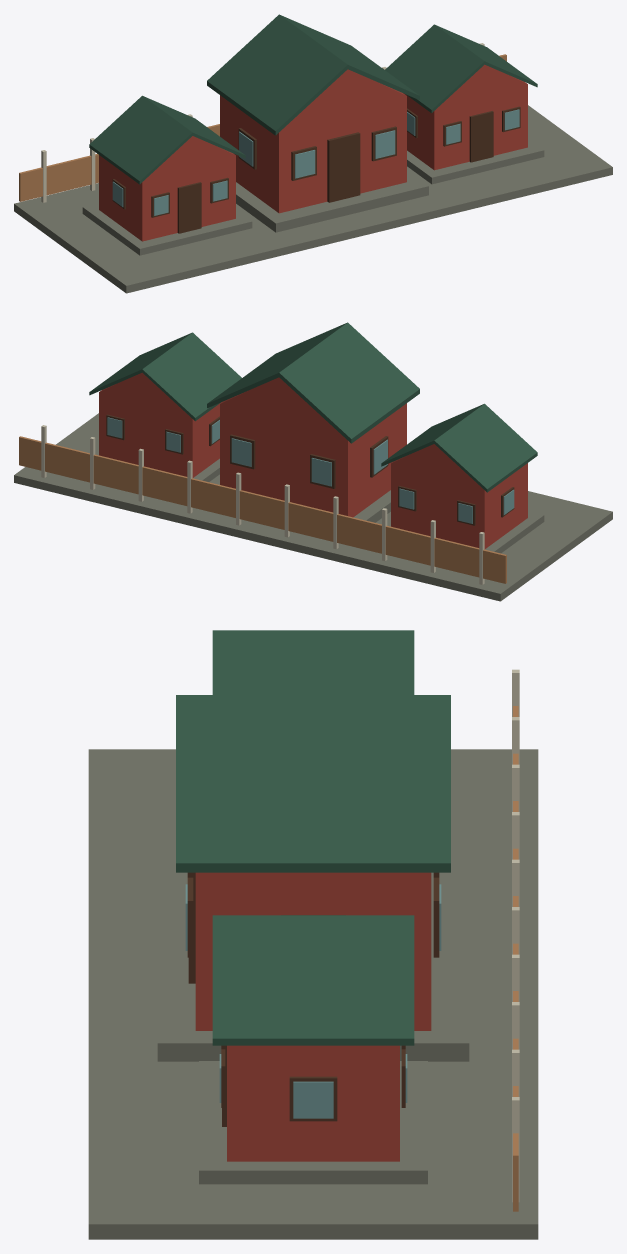
The model's file is Backyard_NeighborhoodBackdrop_Simple.glb.
3 views of the same model, one above another, from view 1: azimuth 30°, elevation 25°; view 2: azimuth 150°, elevation 25°; view 3: azimuth 270°, elevation 25° (orthographic). The views are drawn at different scales.
Parts seen in each view (by area): view 1: Backyard_NeighborhoodBackdrop_Simple; view 2: Backyard_NeighborhoodBackdrop_Simple; view 3: Backyard_NeighborhoodBackdrop_Simple.
Part boxes in pixels (box(x1,y1,x2,y2)): Backyard_NeighborhoodBackdrop_Simple: box(14, 14, 612, 293); Backyard_NeighborhoodBackdrop_Simple: box(14, 322, 612, 601); Backyard_NeighborhoodBackdrop_Simple: box(88, 630, 538, 1239).
Size of the model in its own units: 20 by 6.03 by 8.
